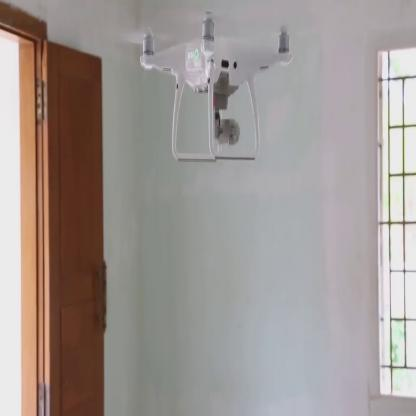drone: (121, 10, 306, 185)
